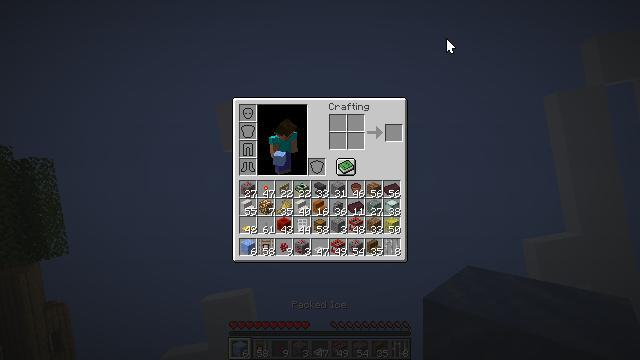cursor: (446, 38, 456, 54)
